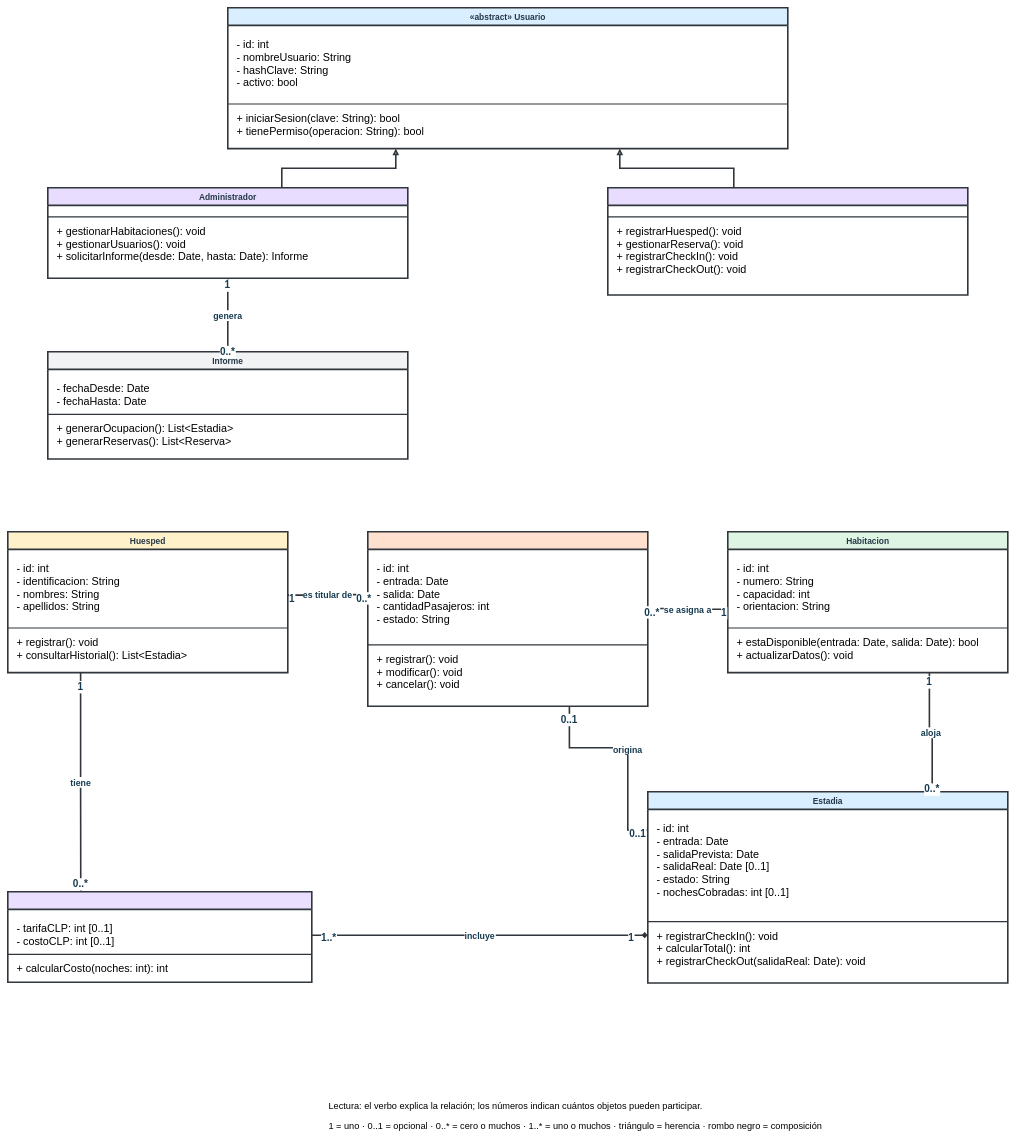
Image size: 1015x1138. Some labels were removed from this diagram. The box of each missing label's shape, as (x1, y1, x2, y2) in pixels:
Encargado: (607, 187, 968, 296)
ParticipacionEstadia: (7, 891, 312, 983)
Reserva: (367, 531, 648, 707)
